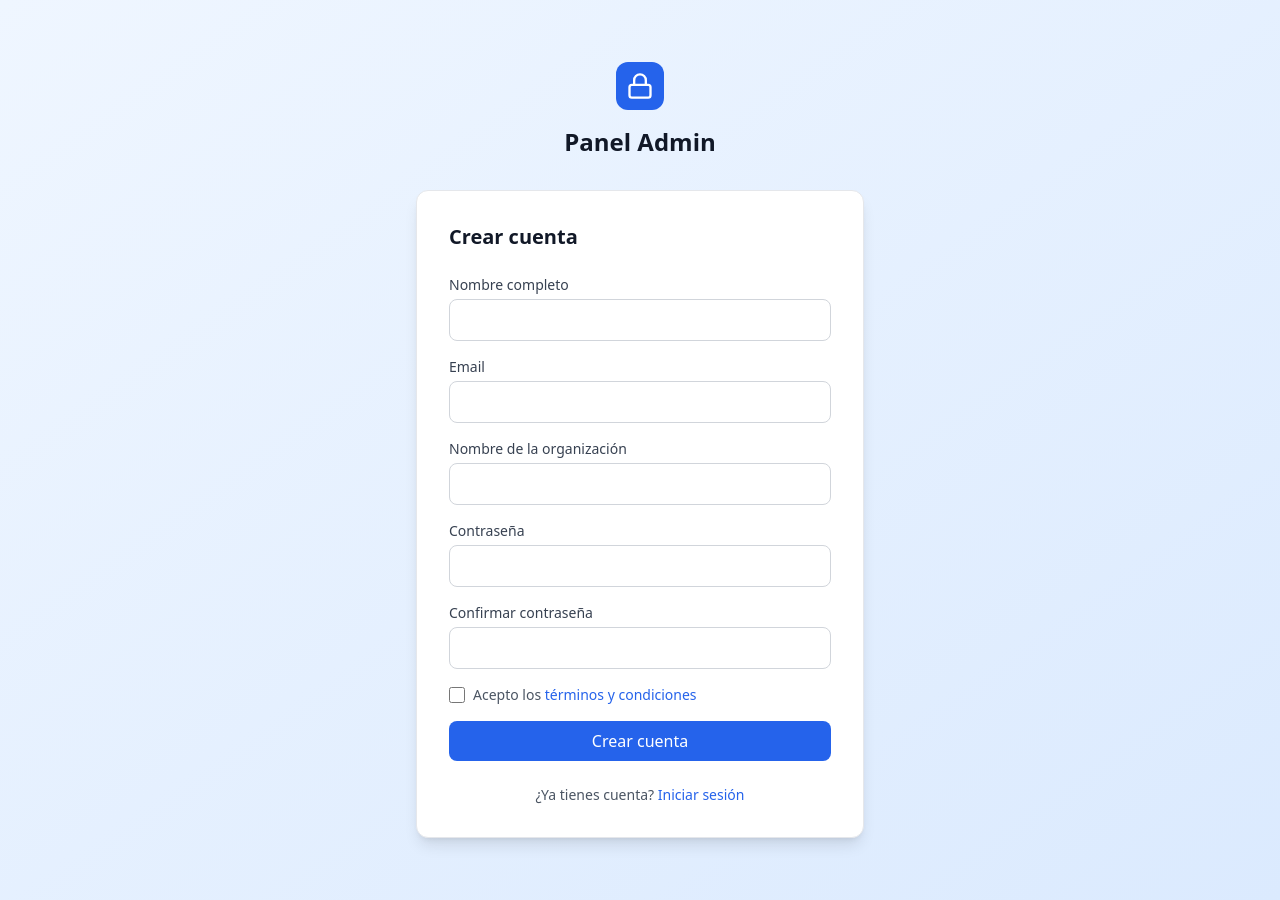
RegisterPage › shows confirmation message on successful registration
Type "John Doe" into the field labelled "Nombre completo".
click(640, 320); type("John Doe")  # box [449,299,831,341]
Type "john@example.com" into the field labelled "Email".
click(640, 402); type("john@example.com")  # box [449,381,831,423]
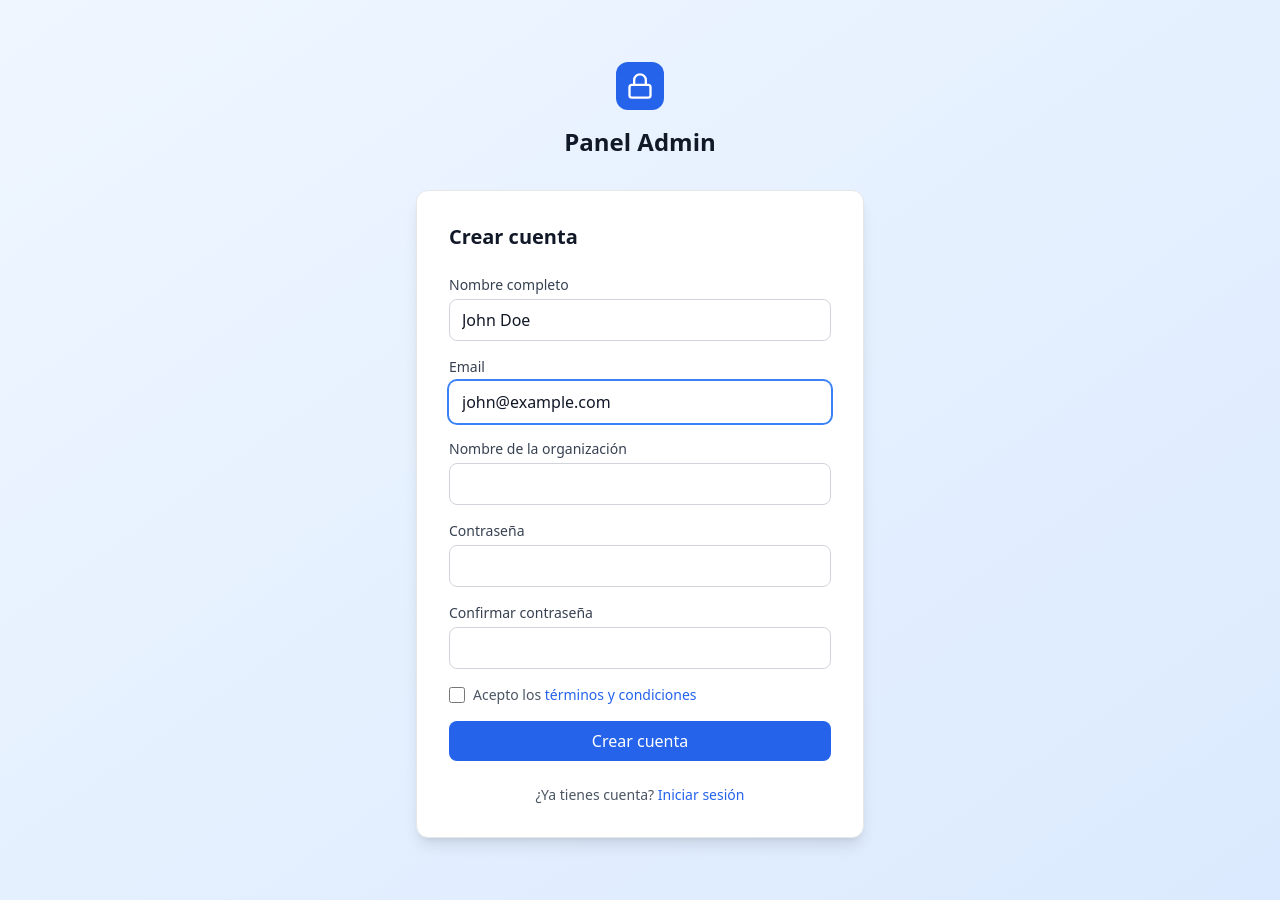
Type "Acme Corp" into the field labelled "Nombre de la organización".
click(640, 484); type("Acme Corp")  # box [449,463,831,505]
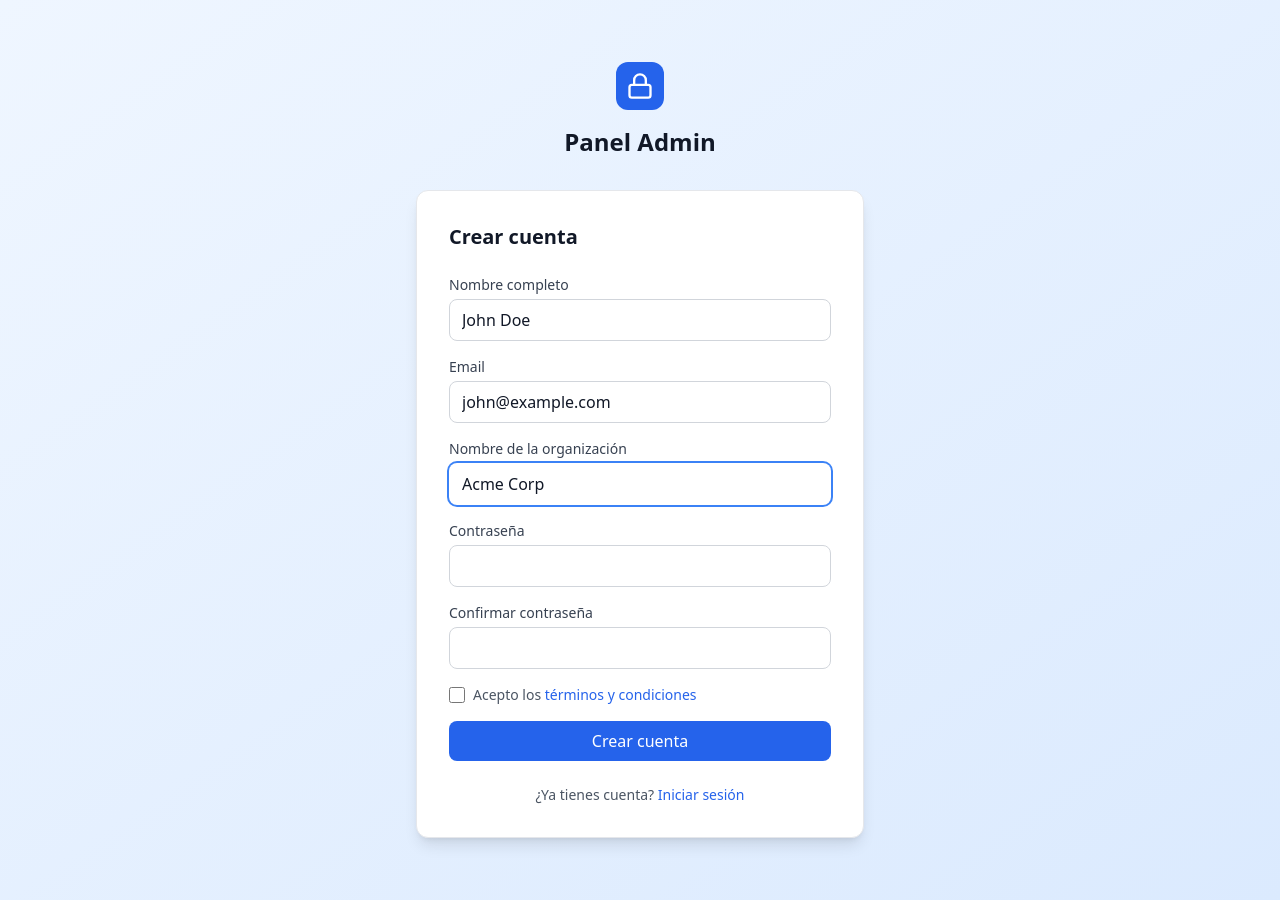
Type "password123" into the password field labelled "Contraseña".
click(640, 566); type("password123")  # box [449,545,831,587]
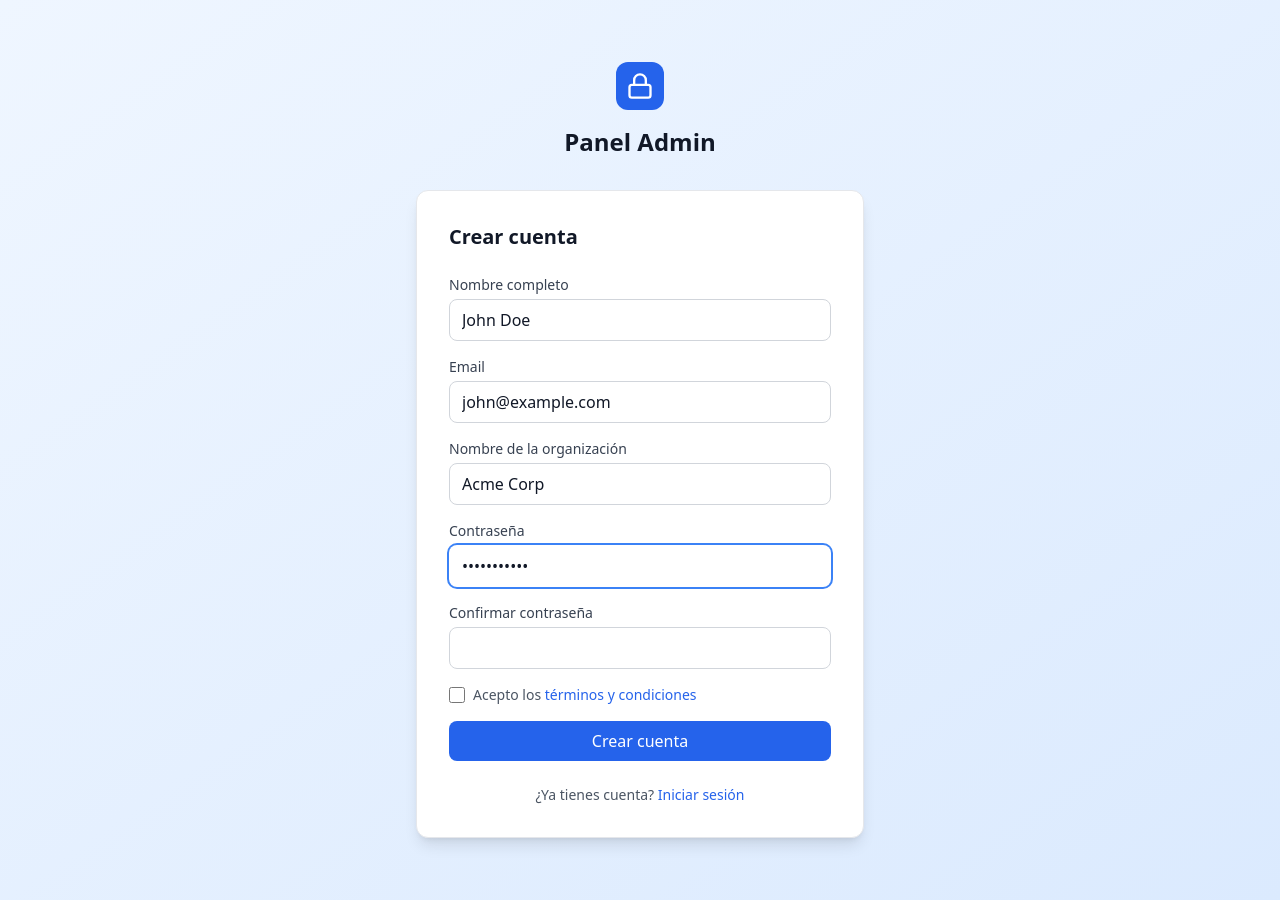
Type "password123" into the password field labelled "Confirmar contraseña".
click(640, 648); type("password123")  # box [449,627,831,669]
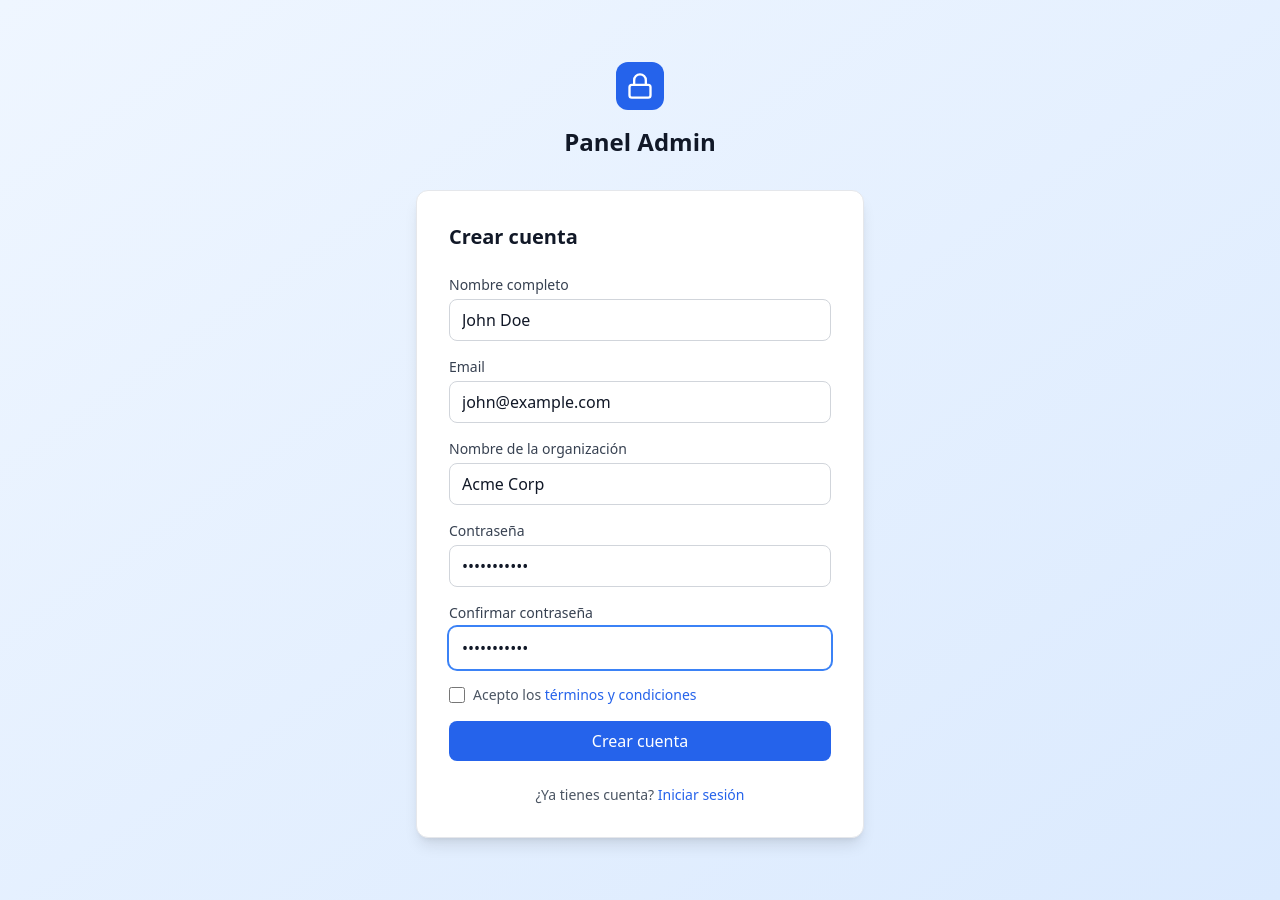
Click the checkbox labelled "Acepto los términos y condiciones".
click(457, 695)  # box [449,687,465,703]
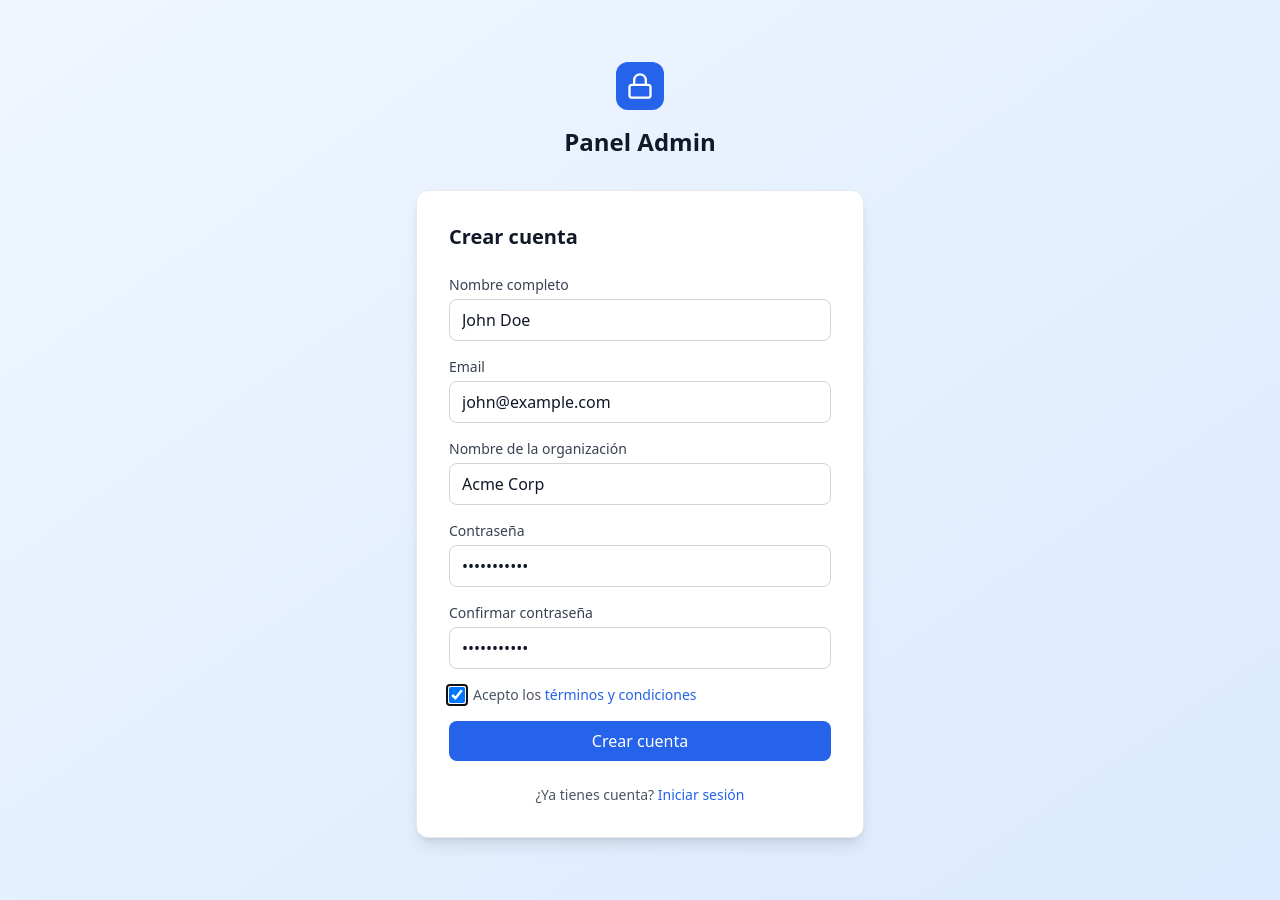
Click the button "Crear cuenta".
click(640, 741)  # box [449,721,831,761]
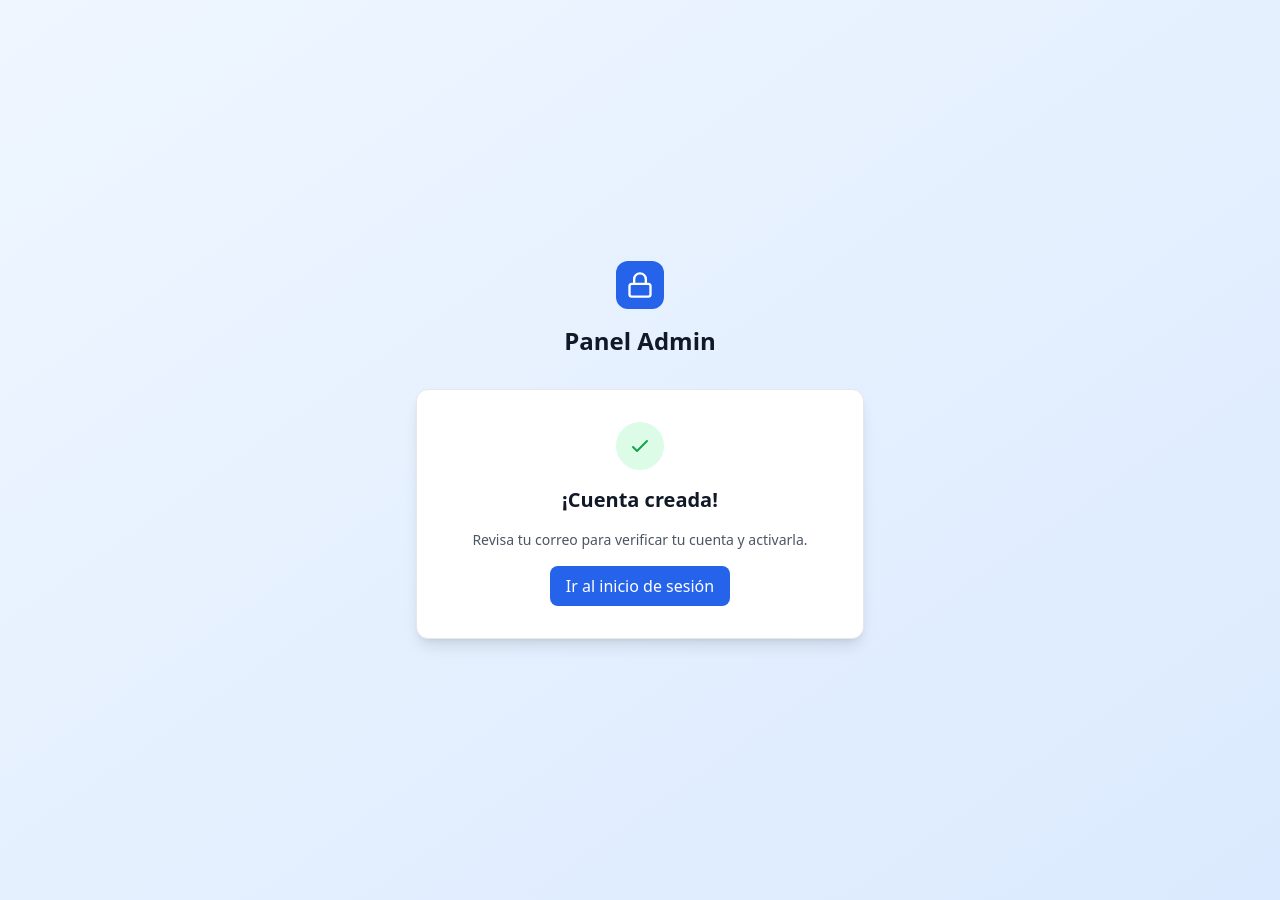
Now the text "Revisa tu correo para verificar tu cuenta y activarla." is shown, box [449,530,831,550]
